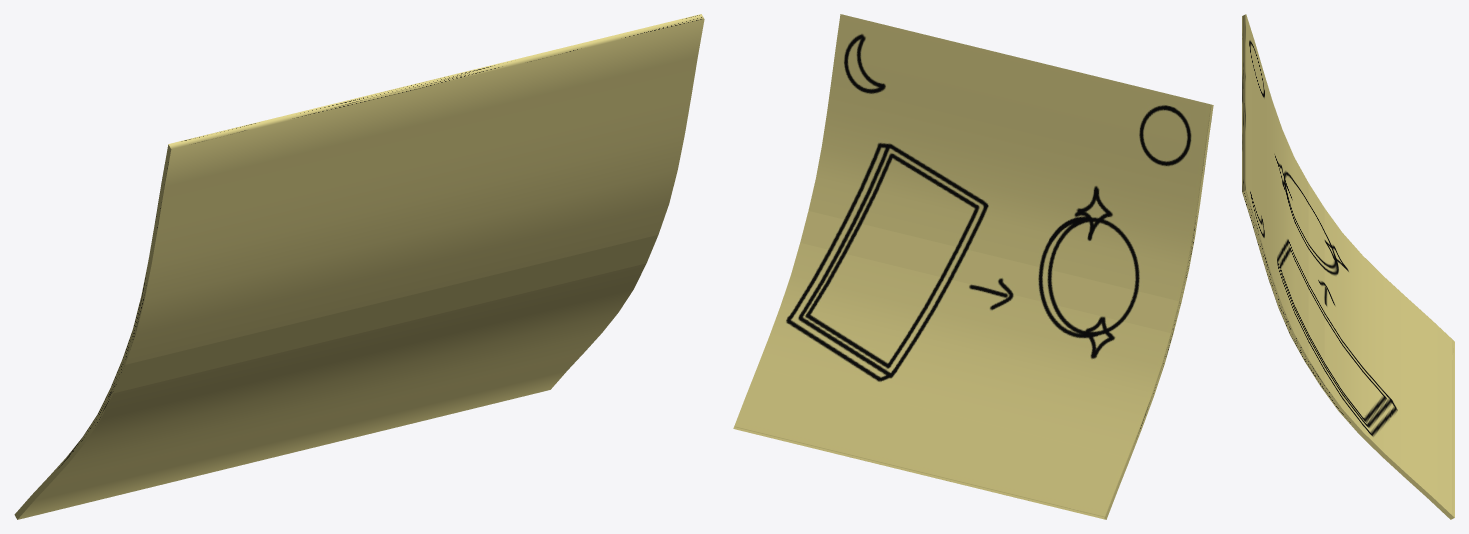
File: 3Day Paper3.fbx
The picture shows the model from 3 angles, left to right: view 1: azimuth 30°, elevation 25°; view 2: azimuth 150°, elevation 25°; view 3: azimuth 270°, elevation 25°; orthographic projection. The views are drawn at different scales.
Parts seen in each view (by area): view 1: Cube; view 2: Cube; view 3: Cube.
Part boxes in pixels (x1,y1,x2,y2): Cube: [14, 14, 704, 519]; Cube: [733, 14, 1213, 519]; Cube: [1242, 14, 1454, 519].
Size of the model in its own units: 200 by 174 by 102.
